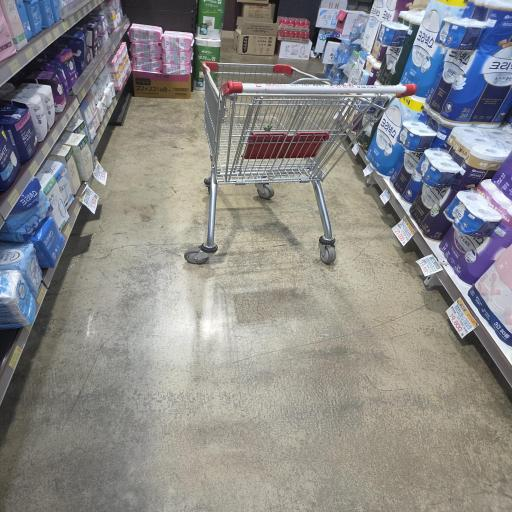empty_cart: (186, 59, 412, 261)
